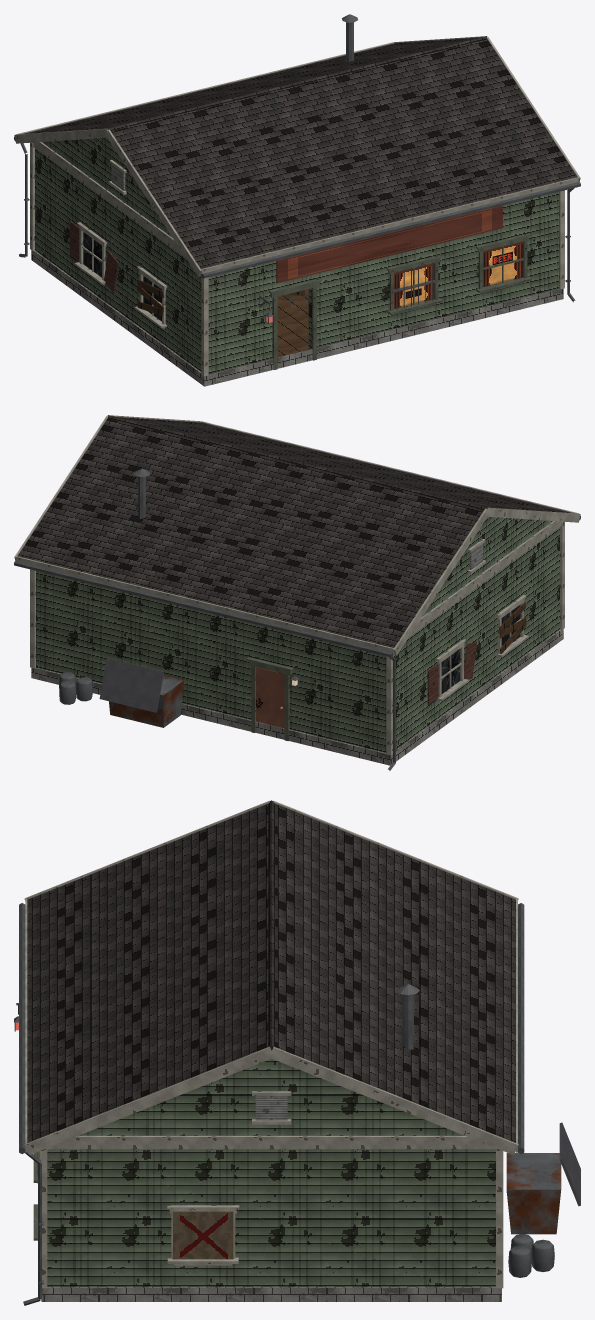
Rendered from bar.glb.
The picture shows the model from 3 angles, top to bottom: view 1: azimuth 30°, elevation 25°; view 2: azimuth 150°, elevation 25°; view 3: azimuth 270°, elevation 25°; orthographic projection. The views are drawn at different scales.
Visible parts, largest first — view 1: detail, shell-col; view 2: detail, shell-col; view 3: detail, shell-col.
Part boxes in pixels (<box>): detail: <box>14,14,580,386</box>; shell-col: <box>35,142,558,373</box>; detail: <box>14,415,580,770</box>; shell-col: <box>36,521,559,752</box>; detail: <box>14,800,580,1305</box>; shell-col: <box>47,1135,495,1286</box>.
Bounding box in the file's own units: 12.82 × 6.51 × 12.43.
38 materials, 38 textured.
